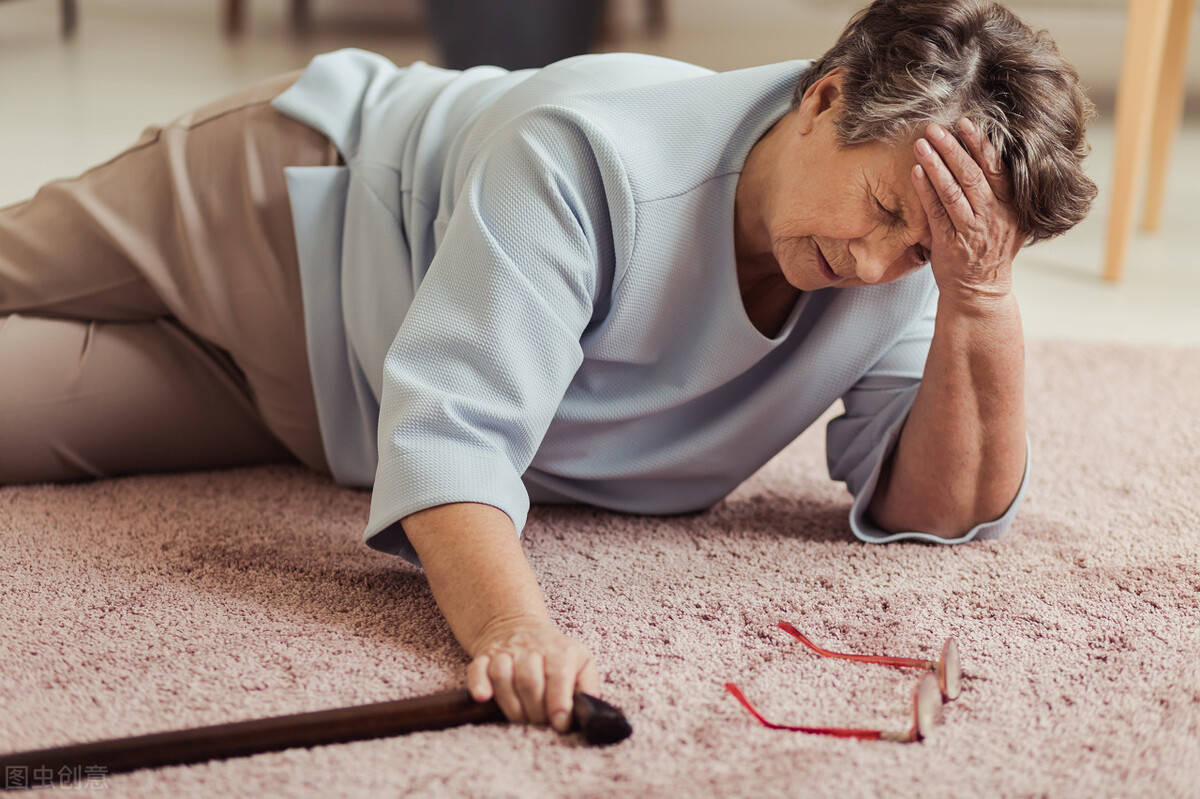falling: (21, 26, 1115, 567)
